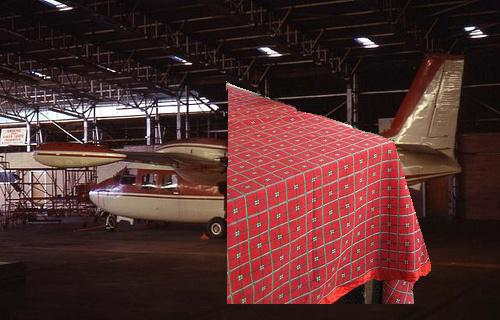tampered: (227, 82, 431, 304)
